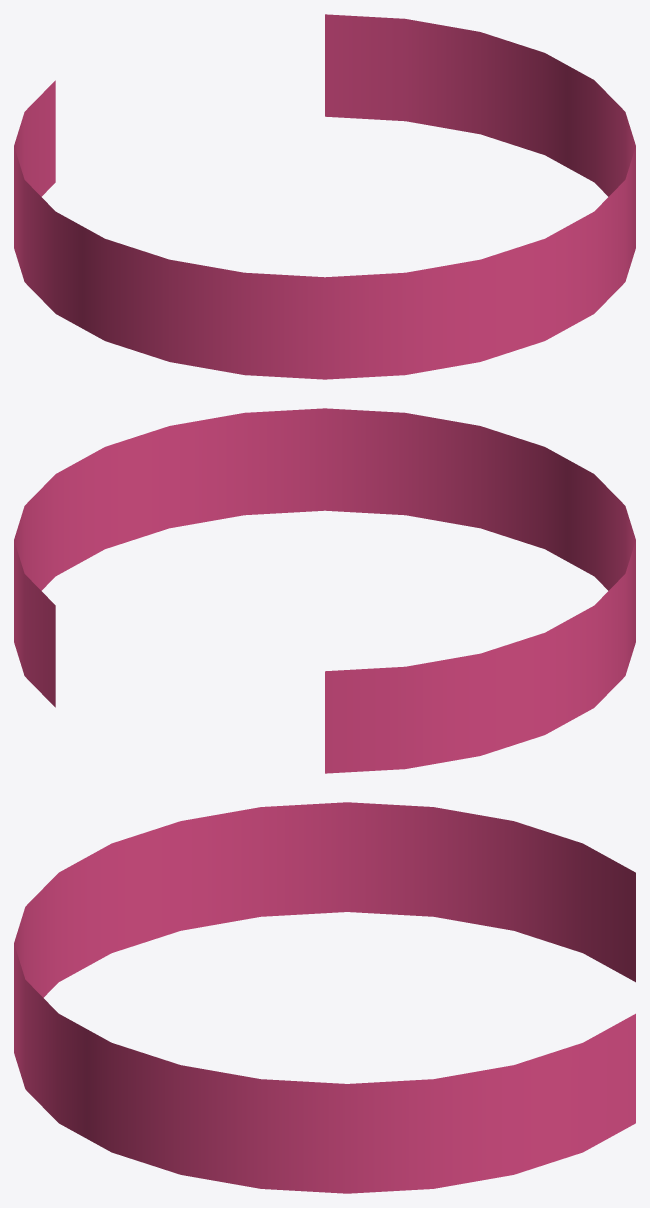
Rendered from p_mesh_plasmadrill_eject_glow01.fbx.
3 renders of one model, top to bottom at view 1: azimuth 30°, elevation 25°; view 2: azimuth 150°, elevation 25°; view 3: azimuth 270°, elevation 25°, orthographic. The views are drawn at different scales.
Visible parts, largest first — view 1: part1_lp.002; view 2: part1_lp.002; view 3: part1_lp.002.
Boxes of the visible parts, x1,y1,x2,y2 form: part1_lp.002: (14,14,635,379); part1_lp.002: (14,408,635,773); part1_lp.002: (14,802,635,1193).
Bounding box in the file's own units: 2.92 × 0.5303 × 2.72.
